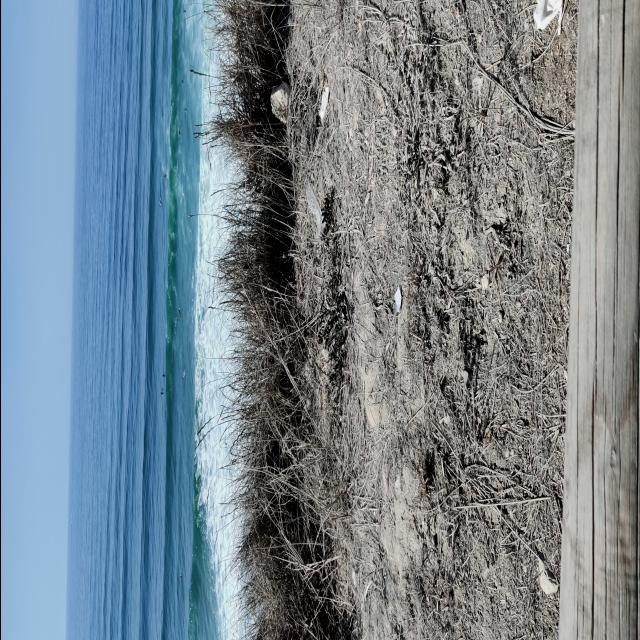Plastic film: (305, 178, 323, 239)
Unlabeled litter: (533, 1, 563, 29), (319, 85, 328, 120), (393, 285, 401, 312), (557, 4, 562, 36)
